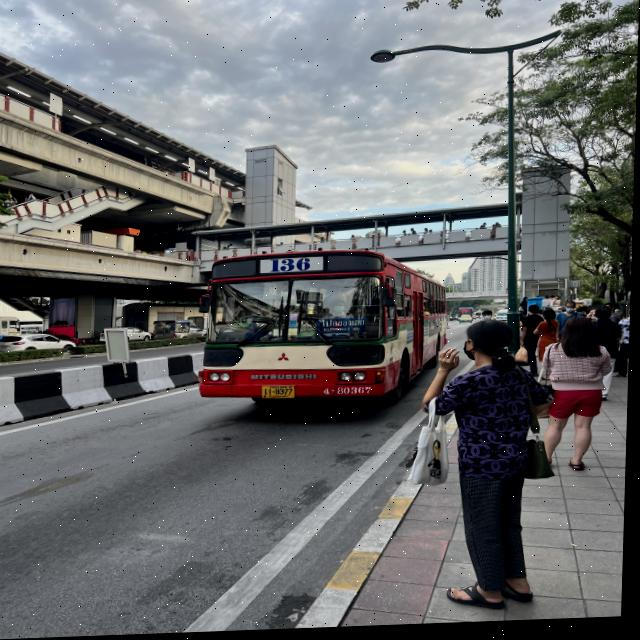BMTA-bus: (199, 251, 450, 411)
Bus-Line-Number: (262, 256, 329, 275)
Destination-Sign-Normal: (320, 320, 370, 338)
